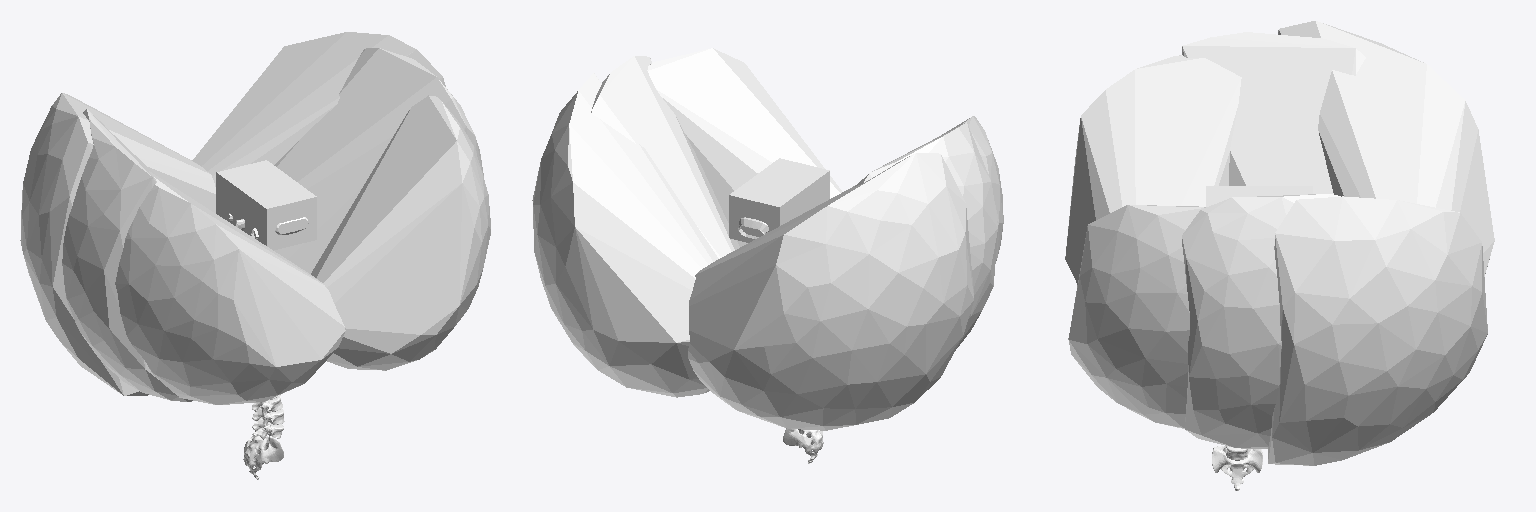
robot.urdf — skeleton_trunk_flexible:
<?xml version="1.0"?>
<robot name="skeleton_trunk_flexible">
  <material name="White"> <!-- for bones -->
    <color rgba="1 1 1 1"/>
  </material>
  <material name="Green"> <!-- for bones -->
    <color rgba="0 1 0.1 0.2"/>
  </material>

  <link name="base_link"/>
  <joint name="base_link_J" type="fixed">
      <parent link="base_link"/>
      <child link="Pelvis"/>
      <origin rpy="0 0 0" xyz="0 0 0"/>
   </joint>

  <link name="Pelvis">
      <inertial>
         <origin rpy="0 0 0" xyz="0 0 0"/>
         <mass value="8.4552"/>
         <inertia ixx="0" ixy="0" ixz="0" iyy="0" iyz="0" izz="0"/>
      </inertial>
      <visual>
         <origin xyz="0 0 0" rpy="0 0 0"/>
         <geometry>
            <mesh filename="package://hpp-rbprm-corba/meshes/skeleton/Pelvis_view.dae"/>
         </geometry>
         <material name="White"/>
      </visual>
      <collision>
         <origin xyz="0 0 0" rpy="0 0 0"/>
         <geometry>
            <mesh filename="package://hpp-rbprm-corba/meshes/skeleton/pelvis_box.stl"/>
         </geometry>
      </collision>
   </link>


 <!--<joint name="pelvis_rfoot_rom_joint" type="fixed">
      <parent link="Pelvis"/>
      <child link="pelvis_rfoot_rom"/>
      <origin rpy="0 0 0" xyz="0 0 0"/>
   </joint>

  <link name="pelvis_rfoot_rom">
      <visual>
         <origin xyz="0 0 0" rpy="0 0 0"/>
         <geometry>
            <mesh filename="package://hpp-rbprm-corba/meshes/skeleton/rfoot_rom.stl"/>
         </geometry>
         <material name="Green"/>
      </visual>
   </link>-->

  <!--<joint name="pelvis_lfoot_rom_joint" type="fixed">
      <parent link="Pelvis"/>
      <child link="pelvis_lfoot_rom"/>
      <origin rpy="0 0 0" xyz="0 0 0"/>
   </joint>

  <link name="pelvis_lfoot_rom">
      <visual>
         <origin xyz="0 0 0" rpy="0 0 0"/>
         <geometry>
            <mesh filename="package://hpp-rbprm-corba/meshes/skeleton/lfoot_rom.stl"/>
         </geometry>
         <material name="Green"/>
      </visual>
   </link>-->


   <link name="PelvisSacrum_J1"/>
   <link name="PelvisSacrum_J2"/>
   <link name="Sacrum">
      <inertial>
         <origin rpy="0 0 0" xyz="-0.0255 0 0.028333"/>
         <mass value="0"/>
         <inertia ixx="0" ixy="0" ixz="0" iyy="0" iyz="0" izz="0"/>
      </inertial>
      <visual>
         <origin xyz="-0.0255 0 0.028333" rpy="0 0 0"/>
         <geometry>
            <mesh filename="package://hpp-rbprm-corba/meshes/skeleton/Sacrum.stl"/>
         </geometry>
         <material name="White"/>
      </visual>
   </link>
   <link name="SacrumL5_J1"/>
   <link name="SacrumL5_J2"/>
   <link name="L5">
      <inertial>
         <origin rpy="0 0 0" xyz="0.0075556 0 0.013222"/>
         <mass value="0"/>
         <inertia ixx="0" ixy="0" ixz="0" iyy="0" iyz="0" izz="0"/>
      </inertial>
      <visual>
         <origin xyz="0.0075556 0 0.013222" rpy="0 0 0"/>
         <geometry>
            <mesh filename="package://hpp-rbprm-corba/meshes/skeleton/L5.stl"/>
         </geometry>
         <material name="White"/>
      </visual>
   </link>
   <link name="L5L4_J1"/>
   <link name="L5L4_J2"/>
   <link name="L4">
      <inertial>
         <origin rpy="0 0 0" xyz="0.0056667 0 0.016056"/>
         <mass value="0"/>
         <inertia ixx="0" ixy="0" ixz="0" iyy="0" iyz="0" izz="0"/>
      </inertial>
      <visual>
         <origin xyz="0.0056667 0 0.016056" rpy="0 0 0"/>
         <geometry>
            <mesh filename="package://hpp-rbprm-corba/meshes/skeleton/L4.stl"/>
         </geometry>
         <material name="White"/>
      </visual>
   </link>
   <link name="L4L3_J1"/>
   <link name="L4L3_J2"/>
   <link name="L3">
      <inertial>
         <origin rpy="0 0 0" xyz="0.00094444 0 0.017"/>
         <mass value="0"/>
         <inertia ixx="0" ixy="0" ixz="0" iyy="0" iyz="0" izz="0"/>
      </inertial>
      <visual>
         <origin xyz="0.00094444 0 0.017" rpy="0 0 0"/>
         <geometry>
            <mesh filename="package://hpp-rbprm-corba/meshes/skeleton/L3.stl"/>
         </geometry>
         <material name="White"/>
      </visual>
   </link>
   <link name="L3L2_J1"/>
   <link name="L3L2_J2"/>
   <link name="L2">
      <inertial>
         <origin rpy="0 0 0" xyz="-0.00094444 0 0.015111"/>
         <mass value="0"/>
         <inertia ixx="0" ixy="0" ixz="0" iyy="0" iyz="0" izz="0"/>
      </inertial>
      <visual>
         <origin xyz="-0.00094444 0 0.015111" rpy="0 0 0"/>
         <geometry>
            <mesh filename="package://hpp-rbprm-corba/meshes/skeleton/L2.stl"/>
         </geometry>
         <material name="White"/>
      </visual>
   </link>
   <link name="L2L1_J1"/>
   <link name="L2L1_J2"/>
   <link name="L1">
      <inertial>
         <origin rpy="0 0 0" xyz="-0.0028333 0 0.015111"/>
         <mass value="0"/>
         <inertia ixx="0" ixy="0" ixz="0" iyy="0" iyz="0" izz="0"/>
      </inertial>
      <visual>
         <origin xyz="-0.0028333 0 0.015111" rpy="0 0 0"/>
         <geometry>
            <mesh filename="package://hpp-rbprm-corba/meshes/skeleton/L1.stl"/>
         </geometry>
         <material name="White"/>
      </visual>
   </link>
   <link name="L1Thorax_J1"/>
   <link name="L1Thorax_J2"/>
   <link name="Thorax">
      <inertial>
         <origin rpy="0 0 0" xyz="0.035889 0 0.14072"/>
         <mass value="19.8372"/>
         <inertia ixx="-0.16485" ixy="0.25777" ixz="0.0015499" iyy="0.20309" iyz="-0.0061998" izz="-0.18263"/>
      </inertial>
      <visual>
         <origin xyz="0.035889 0 0.14072" rpy="0 0 0"/>
         <geometry>
            <mesh filename="package://hpp-rbprm-corba/meshes/skeleton/Thorax_view.dae"/>
         </geometry>
         <material name="White"/>
      </visual>
      <collision>
         <origin xyz="0.035889 0 0.14072" rpy="0 0 0"/>
         <geometry>
            <mesh filename="package://hpp-rbprm-corba/meshes/skeleton/thorax_box.stl"/>
         </geometry>
      </collision>
   </link>


  <!--<joint name="thorax_rhand_rom_joint" type="fixed">
      <parent link="Thorax"/>
      <child link="thorax_rhand_rom"/>
      <origin rpy="0 0 0" xyz="0 0 0"/>
   </joint>

  <link name="thorax_rhand_rom">
      <visual>
         <origin xyz="0.034 0.006 0.14" rpy="0 0 0"/>
         <geometry>
            <mesh filename="package://hpp-rbprm-corba/meshes/skeleton/rhand_rom.stl"/>
         </geometry>
         <material name="Green"/>
      </visual>
   </link>-->

  <!--<joint name="thorax_lhand_rom_joint" type="fixed">
      <parent link="Thorax"/>
      <child link="thorax_lhand_rom"/>
      <origin rpy="0 0 0" xyz="0 0 0"/>
   </joint>

  <link name="thorax_lhand_rom">
      <visual>
         <origin xyz="0.034 -0.006 0.14" rpy="0 0 0"/>
         <geometry>
            <mesh filename="package://hpp-rbprm-corba/meshes/skeleton/lhand_rom.stl"/>
         </geometry>
         <material name="Green"/>
      </visual>
   </link>-->

   <link name="ThoraxSkull_J1"/>
   <link name="ThoraxSkull_J2"/>
   <link name="Skull">
      <inertial>
         <origin rpy="0 0 0" xyz="0 0 0"/>
         <mass value="4.2276"/>
         <inertia ixx="0.0071027" ixy="-0.00059867" ixz="-2.9564e-05" iyy="0.0046194" iyz="6.6519e-05" izz="0.0080488"/>
      </inertial>
      <visual>
         <origin xyz="0 0 0" rpy="0 0 0"/>
         <geometry>
            <mesh filename="package://hpp-rbprm-corba/meshes/skeleton/Skull_view.dae"/>
         </geometry>
         <material name="White"/>
      </visual>
      <collision>
         <origin xyz="0 0 0" rpy="0 0 0"/>
         <geometry>
            <mesh filename="package://hpp-rbprm-corba/meshes/skeleton/skull_box.stl"/>
         </geometry>
      </collision>
   </link>

   <joint name="A_PelvisSacrum_J1" type="revolute"> <!-- A_ added for order while parsing with ROS -->
      <parent link="Pelvis"/>
      <child link="PelvisSacrum_J1"/>
      <origin rpy="0 0 0" xyz="-0.010389 0 0.018889"/>
      <axis xyz="1 0 0"/>
      <limit effort="0" lower="-0.2" upper="0.2" velocity="1.0"/>
   </joint>
   <joint name="PelvisSacrum_J2" type="revolute">
      <parent link="PelvisSacrum_J1"/>
      <child link="PelvisSacrum_J2"/>
      <origin rpy="0 0 0" xyz="0 0 0"/>
      <axis xyz="0 0 1"/>
      <limit effort="0" lower="-0.2" upper="0.2" velocity="1.0"/>
   </joint>
   <joint name="Sacrum" type="revolute">
      <parent link="PelvisSacrum_J2"/>
      <child link="Sacrum"/>
      <origin rpy="0 0 0" xyz="0 0 0"/>
      <axis xyz="0 1 0"/>
      <limit effort="0" lower="-0.1" upper="0.3" velocity="1.0"/>
   </joint>
   <joint name="SacrumL5_J1" type="revolute">
      <parent link="Sacrum"/>
      <child link="SacrumL5_J1"/>
      <origin rpy="0 0 0" xyz="0.015111 0 0.023611"/>
      <axis xyz="1 0 0"/>
      <limit effort="0" lower="-0.1" upper="0.1" velocity="1.0"/>
   </joint>
   <joint name="SacrumL5_J2" type="revolute">
      <parent link="SacrumL5_J1"/>
      <child link="SacrumL5_J2"/>
      <origin rpy="0 0 0" xyz="0 0 0"/>
      <axis xyz="0 0 1"/>
      <limit effort="0" lower="-0.1" upper="0.1" velocity="1.0"/>
   </joint>
   <joint name="L5" type="revolute">
      <parent link="SacrumL5_J2"/>
      <child link="L5"/>
      <origin rpy="0 0 0" xyz="0 0 0"/>
      <axis xyz="0 1 0"/>
      <limit effort="0" lower="-0.1" upper="0.1" velocity="1.0"/>
   </joint>
   <joint name="L5L4_J1" type="revolute">
      <parent link="L5"/>
      <child link="L5L4_J1"/>
      <origin rpy="0 0 0" xyz="0.0066111 0 0.030222"/>
      <axis xyz="1 0 0"/>
      <limit effort="0" lower="-0.1" upper="0.1" velocity="1.0"/>
   </joint>
   <joint name="L5L4_J2" type="revolute">
      <parent link="L5L4_J1"/>
      <child link="L5L4_J2"/>
      <origin rpy="0 0 0" xyz="0 0 0"/>
      <axis xyz="0 0 1"/>
      <limit effort="0" lower="-0.1" upper="0.1" velocity="1.0"/>
   </joint>
   <joint name="L4" type="revolute">
      <parent link="L5L4_J2"/>
      <child link="L4"/>
      <origin rpy="0 0 0" xyz="0 0 0"/>
      <axis xyz="0 1 0"/>
      <limit effort="0" lower="-0.1" upper="0.1" velocity="1.0"/>
   </joint>
   <joint name="L4L3_J1" type="revolute">
      <parent link="L4"/>
      <child link="L4L3_J1"/>
      <origin rpy="0 0 0" xyz="0 0 0.032111"/>
      <axis xyz="1 0 0"/>
      <limit effort="0" lower="-0.1" upper="0.1" velocity="1.0"/>
   </joint>
   <joint name="L4L3_J2" type="revolute">
      <parent link="L4L3_J1"/>
      <child link="L4L3_J2"/>
      <origin rpy="0 0 0" xyz="0 0 0"/>
      <axis xyz="0 0 1"/>
      <limit effort="0" lower="-0.1" upper="0.1" velocity="1.0"/>
   </joint>
   <joint name="L3" type="revolute">
      <parent link="L4L3_J2"/>
      <child link="L3"/>
      <origin rpy="0 0 0" xyz="0 0 0"/>
      <axis xyz="0 1 0"/>
      <limit effort="0" lower="-0.1" upper="0.1" velocity="1.0"/>
   </joint>
   <joint name="L3L2_J1" type="revolute">
      <parent link="L3"/>
      <child link="L3L2_J1"/>
      <origin rpy="0 0 0" xyz="-0.0056667 0 0.031167"/>
      <axis xyz="1 0 0"/>
      <limit effort="0" lower="-0.1" upper="0.1" velocity="1.0"/>
   </joint>
   <joint name="L3L2_J2" type="revolute">
      <parent link="L3L2_J1"/>
      <child link="L3L2_J2"/>
      <origin rpy="0 0 0" xyz="0 0 0"/>
      <axis xyz="0 0 1"/>
      <limit effort="0" lower="-0.1" upper="0.1" velocity="1.0"/>
   </joint>
   <joint name="L2" type="revolute">
      <parent link="L3L2_J2"/>
      <child link="L2"/>
      <origin rpy="0 0 0" xyz="0 0 0"/>
      <axis xyz="0 1 0"/>
      <limit effort="0" lower="-0.1" upper="0.1" velocity="1.0"/>
   </joint>
   <joint name="L2L1_J1" type="revolute">
      <parent link="L2"/>
      <child link="L2L1_J1"/>
      <origin rpy="0 0 0" xyz="-0.0094444 0 0.027389"/>
      <axis xyz="1 0 0"/>
      <limit effort="0" lower="-0.1" upper="0.1" velocity="1.0"/>
   </joint>
   <joint name="L2L1_J2" type="revolute">
      <parent link="L2L1_J1"/>
      <child link="L2L1_J2"/>
      <origin rpy="0 0 0" xyz="0 0 0"/>
      <axis xyz="0 0 1"/>
      <limit effort="0" lower="-0.1" upper="0.1" velocity="1.0"/>
   </joint>
   <joint name="L1" type="revolute">
      <parent link="L2L1_J2"/>
      <child link="L1"/>
      <origin rpy="0 0 0" xyz="0 0 0"/>
      <axis xyz="0 1 0"/>
      <limit effort="0" lower="-0.1" upper="0.1" velocity="1.0"/>
   </joint>
   <joint name="L1Thorax_J1" type="revolute">
      <parent link="L1"/>
      <child link="L1Thorax_J1"/>
      <origin rpy="0 0 0" xyz="-0.011333 0 0.029278"/>
      <axis xyz="1 0 0"/>
      <limit effort="0" lower="-0.2" upper="0.2" velocity="1.0"/>
   </joint>
   <joint name="L1Thorax_J2" type="revolute">
      <parent link="L1Thorax_J1"/>
      <child link="L1Thorax_J2"/>
      <origin rpy="0 0 0" xyz="0 0 0"/>
      <axis xyz="0 0 1"/>
      <limit effort="0" lower="-1.5" upper="1.5" velocity="1.0"/>
   </joint>
   <joint name="Thorax" type="revolute">
      <parent link="L1Thorax_J2"/>
      <child link="Thorax"/>
      <origin rpy="0 0 0" xyz="0 0 0"/>
      <axis xyz="0 1 0"/>
      <limit effort="0" lower="-0.5" upper="0.6" velocity="1.0"/>
   </joint>
   <joint name="A_ThoraxSkull_J1" type="revolute"> <!-- A_ added for order while parsing with ROS -->
      <parent link="Thorax"/>
      <child link="ThoraxSkull_J1"/>
      <origin rpy="0 0 0" xyz="0.0037778 0 0.42122"/>
      <axis xyz="1 0 0"/>
      <limit effort="0" lower="-0.3" upper="0.3" velocity="1.0"/>
   </joint>
   <joint name="ThoraxSkull_J2" type="revolute">
      <parent link="ThoraxSkull_J1"/>
      <child link="ThoraxSkull_J2"/>
      <origin rpy="0 0 0" xyz="0 0 0"/>
      <axis xyz="0 0 1"/>
      <limit effort="0" lower="-1.4" upper="1.4" velocity="1.0"/>
   </joint>
   <joint name="Skull" type="revolute">
      <parent link="ThoraxSkull_J2"/>
      <child link="Skull"/>
      <origin rpy="0 0 0" xyz="0 0 0"/>
      <axis xyz="0 1 0"/>
      <limit effort="0" lower="-1.1" upper="0.4" velocity="1.0"/>
   </joint>
</robot>

--- Facts derived from the render (not from the file) ---
3 views of the same robot in one strip: view 1: azimuth 30°, elevation 25°; view 2: azimuth 150°, elevation 25°; view 3: azimuth 270°, elevation 25° (orthographic).
Model skeleton_trunk_flexible with 26 links and 25 joints (24 revolute, 1 fixed), rooted at base_link, posed all joints at 0.
Links seen in each view (by area): view 1: Thorax, Sacrum; view 2: Thorax, Sacrum; view 3: Thorax, Sacrum.
Link boxes in pixels (x1,y1,x2,y2): Thorax: [20, 32, 490, 404]; Sacrum: [243, 430, 283, 479]; Thorax: [532, 48, 1003, 430]; Sacrum: [783, 428, 823, 463]; Thorax: [1065, 21, 1494, 465]; Sacrum: [1212, 446, 1262, 490].
Bounding box of the posed robot: 0.9874 × 0.8354 × 0.8505 m (x, y, z).
Meshes: 9 distinct files referenced, 7 mesh visuals loaded (6 binary STL, 1 Collada DAE); not drawn: 2 (reference not matched to a file when rendering).